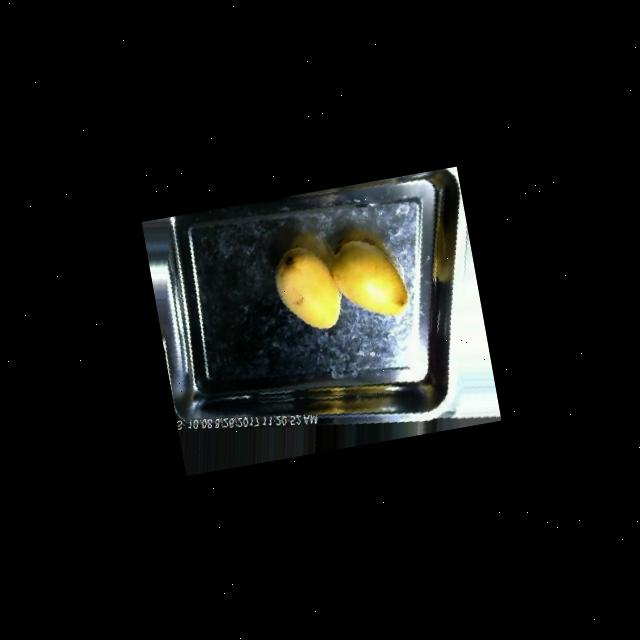Mango: (325, 232, 409, 324), (268, 240, 344, 337)
